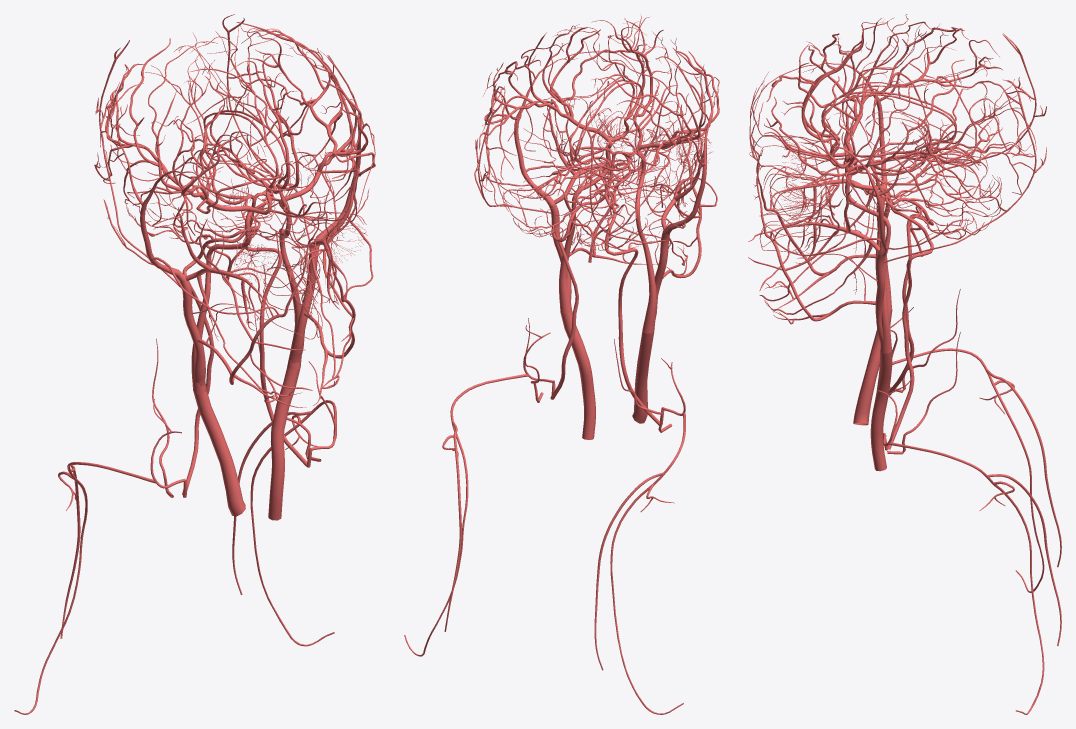
File: arteries.glb
3 renders of one model, left to right at view 1: azimuth 30°, elevation 25°; view 2: azimuth 150°, elevation 25°; view 3: azimuth 270°, elevation 25°, orthographic. The views are drawn at different scales.
Parts seen in each view (by area): view 1: Left common carotid artery.001, Right common carotid artery.001, Superficial temporal artery.r.001, (Deep branch of transverse cervical artery).r.001, Internal carotid artery.r.001, Vertebral artery.r.001, (Deep branch of transverse cervical artery).l.001, Pericallosal artery.r.001, Vertebral artery.l.001, Superficial temporal artery.l.001, Pericallosal artery.l.001, Posterior cerebral artery.r.001 (+9 smaller); view 2: Left common carotid artery.001, Superficial temporal artery.r.001, Internal carotid artery.r.001, Superficial temporal artery.l.001, Right common carotid artery.001, Vertebral artery.r.001, (Deep branch of transverse cervical artery).r.001, (Deep branch of transverse cervical artery).l.001, Internal carotid artery.l.001, Vertebral artery.l.001, Pericallosal artery.r.001, Pericallosal artery.l.001 (+9 smaller); view 3: Left common carotid artery.001, Superficial temporal artery.l.001, Right common carotid artery.001, (Deep branch of transverse cervical artery).l.001, Vertebral artery.l.001, (Deep branch of transverse cervical artery).r.001, Pericallosal artery.l.001, Superficial temporal artery.r.001, Pericallosal artery.r.001, Posterior cerebral artery.l.001, Internal carotid artery.l.001, Occipital artery.l.001 (+13 smaller).
Part boxes in pixels (x1,y1,x2,y2): Left common carotid artery.001: (268,367,300,520); Right common carotid artery.001: (193,390,245,516); Superficial temporal artery.r.001: (101,85,213,281); (Deep branch of transverse cervical artery).r.001: (14,462,155,714); Internal carotid artery.r.001: (191,212,252,393); Vertebral artery.r.001: (182,232,245,495); (Deep branch of transverse cervical artery).l.001: (250,400,336,646); Pericallosal artery.r.001: (174,31,278,187); Vertebral artery.l.001: (245,230,307,466); Superficial temporal artery.l.001: (291,48,373,248); Pericallosal artery.l.001: (195,28,287,183); Posterior cerebral artery.r.001: (147,134,254,231); Left common carotid artery.001: (560,311,595,439); Superficial temporal artery.r.001: (646,62,717,234); Internal carotid artery.r.001: (635,151,656,333); Superficial temporal artery.l.001: (480,32,578,205); Right common carotid artery.001: (632,331,653,423); Vertebral artery.r.001: (604,195,660,425); (Deep branch of transverse cervical artery).r.001: (610,412,685,714); (Deep branch of transverse cervical artery).l.001: (404,374,528,656); Internal carotid artery.l.001: (559,146,611,313); Vertebral artery.l.001: (550,195,604,399); Pericallosal artery.r.001: (562,34,643,164); Pericallosal artery.l.001: (543,27,634,160); Left common carotid artery.001: (870,350,892,471); Superficial temporal artery.l.001: (804,80,974,256); Right common carotid artery.001: (853,309,892,425); (Deep branch of transverse cervical artery).l.001: (888,442,1044,714); Vertebral artery.l.001: (887,199,933,449); (Deep branch of transverse cervical artery).r.001: (892,348,1044,592); Pericallosal artery.l.001: (821,32,987,149); Superficial temporal artery.r.001: (803,18,974,197); Pericallosal artery.r.001: (821,14,987,141); Posterior cerebral artery.l.001: (865,117,991,209); Internal carotid artery.l.001: (845,174,891,353); Occipital artery.l.001: (883,79,1046,263).
Bounding box in the file's own units: 0.2131 × 0.4427 × 0.201.
